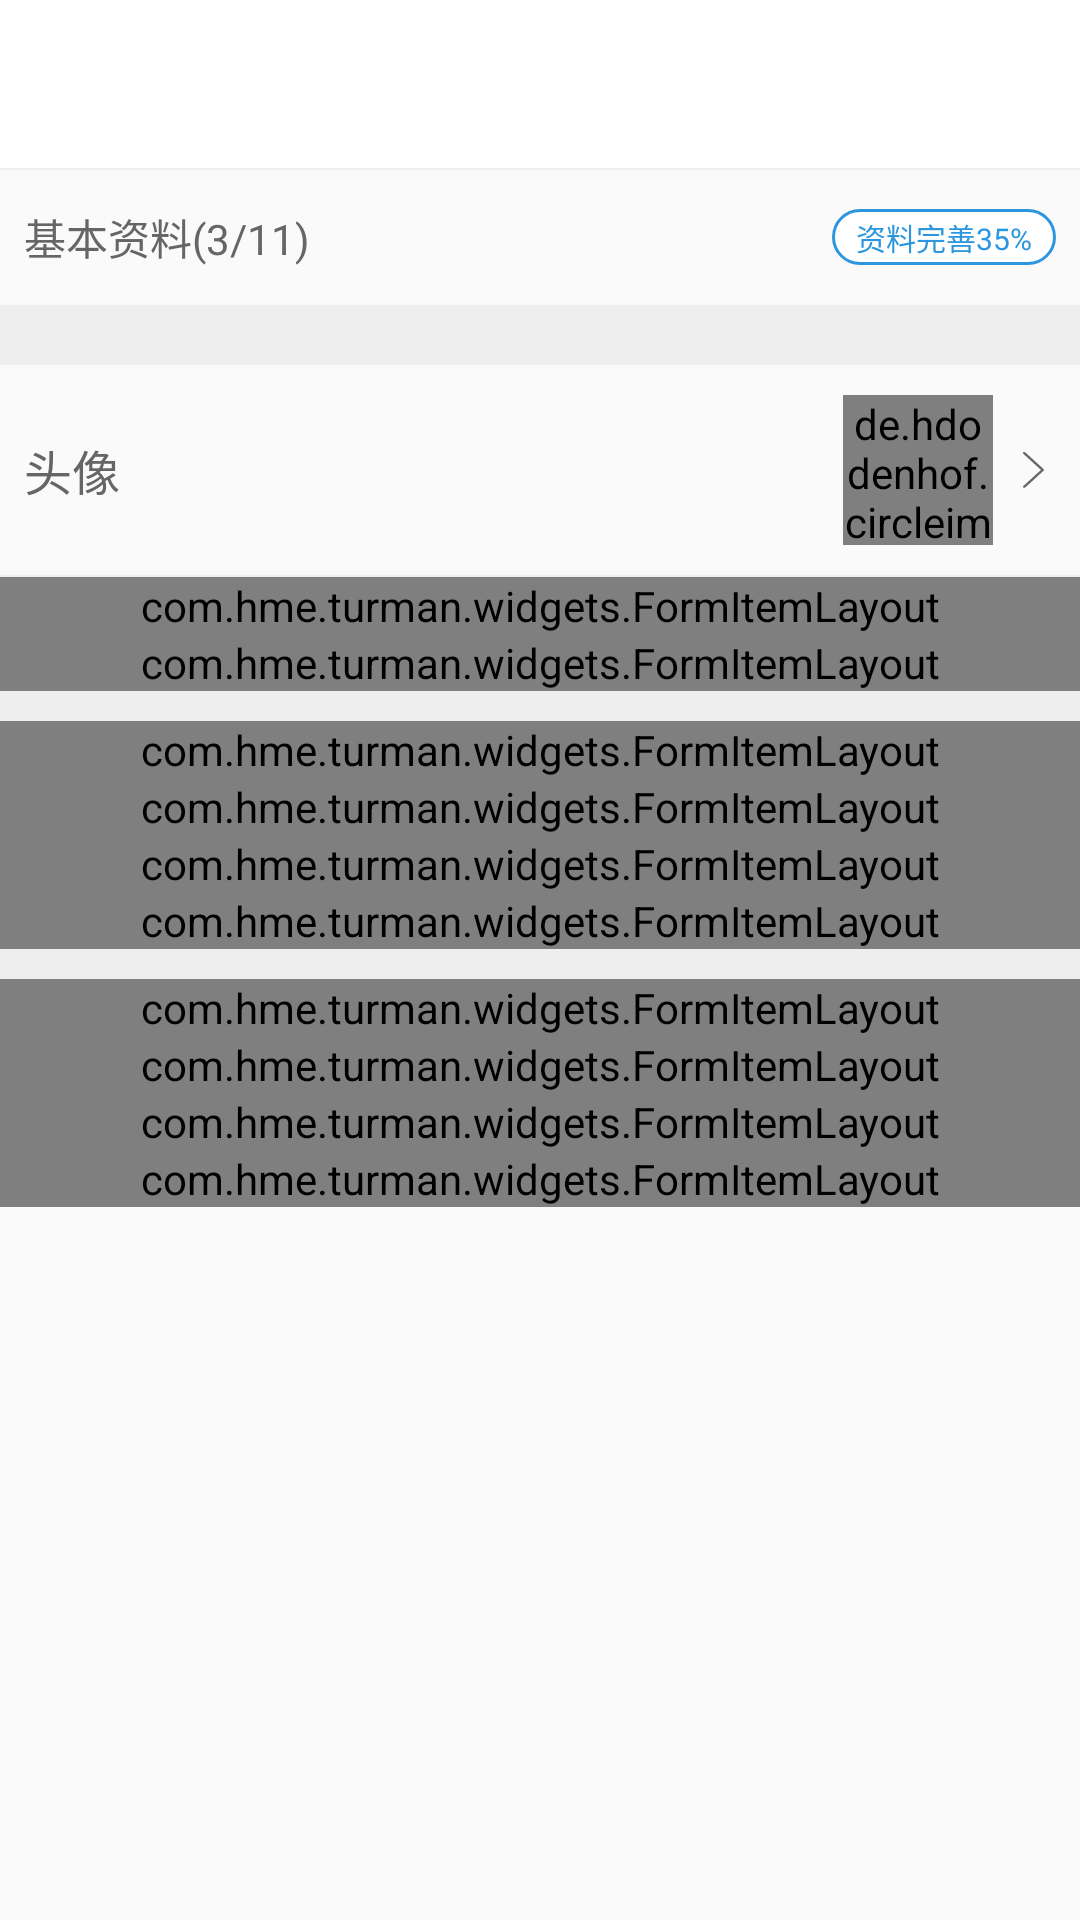

Named icons in this screenshot (1080 × 1920) and their bounding boxes, (x1, y1, x2, y2):
right: (1023, 452, 1044, 488)
